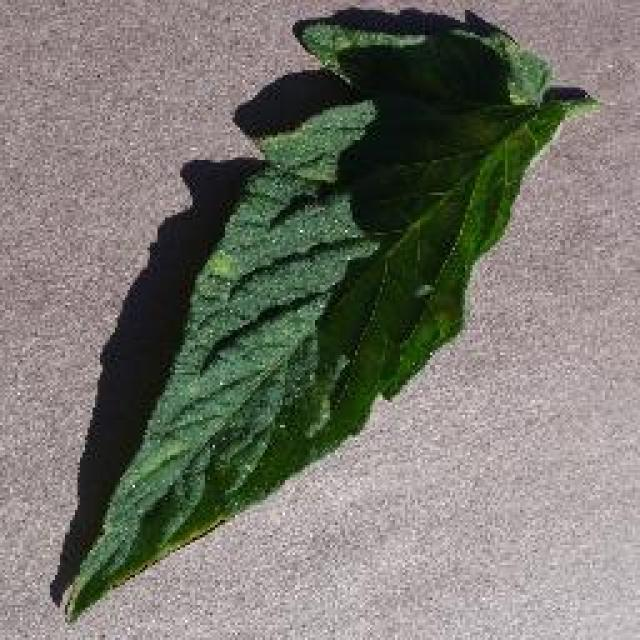Tomato___Leaf_Mold: (68, 14, 595, 620)
